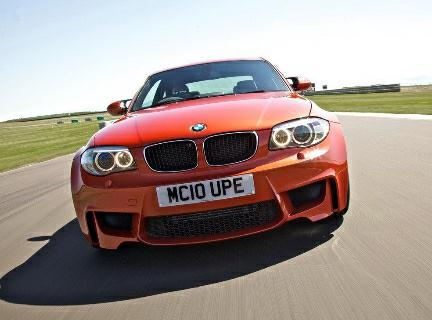宝马-1系M: (67, 52, 356, 278)
